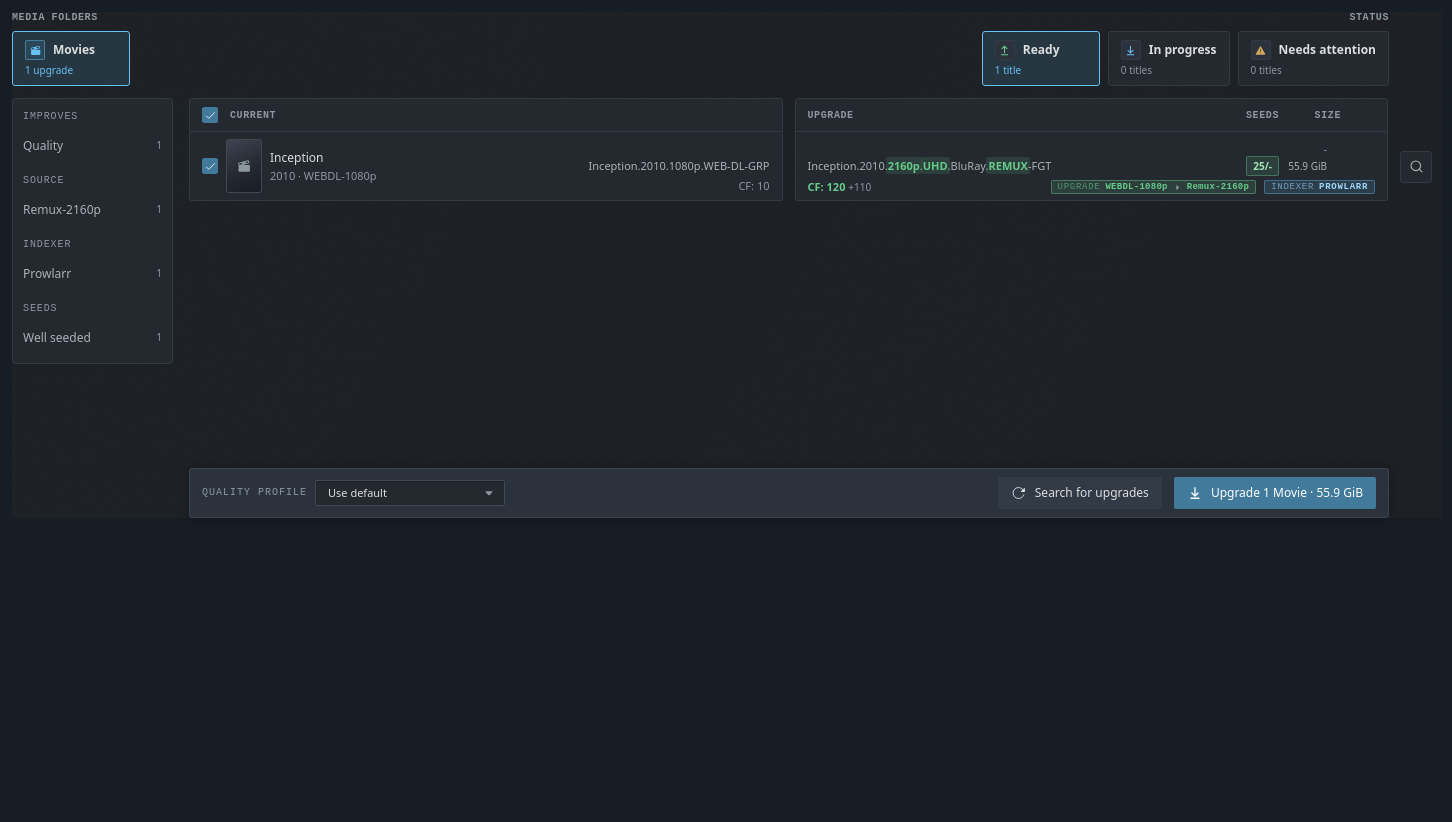
Test: Upgrade Media page › rejects the offered release from a right-click on the upgrade side
Right-click the element with class "upgrade-v2-change" at x=1091, y=166, box [794,132,1388,201]
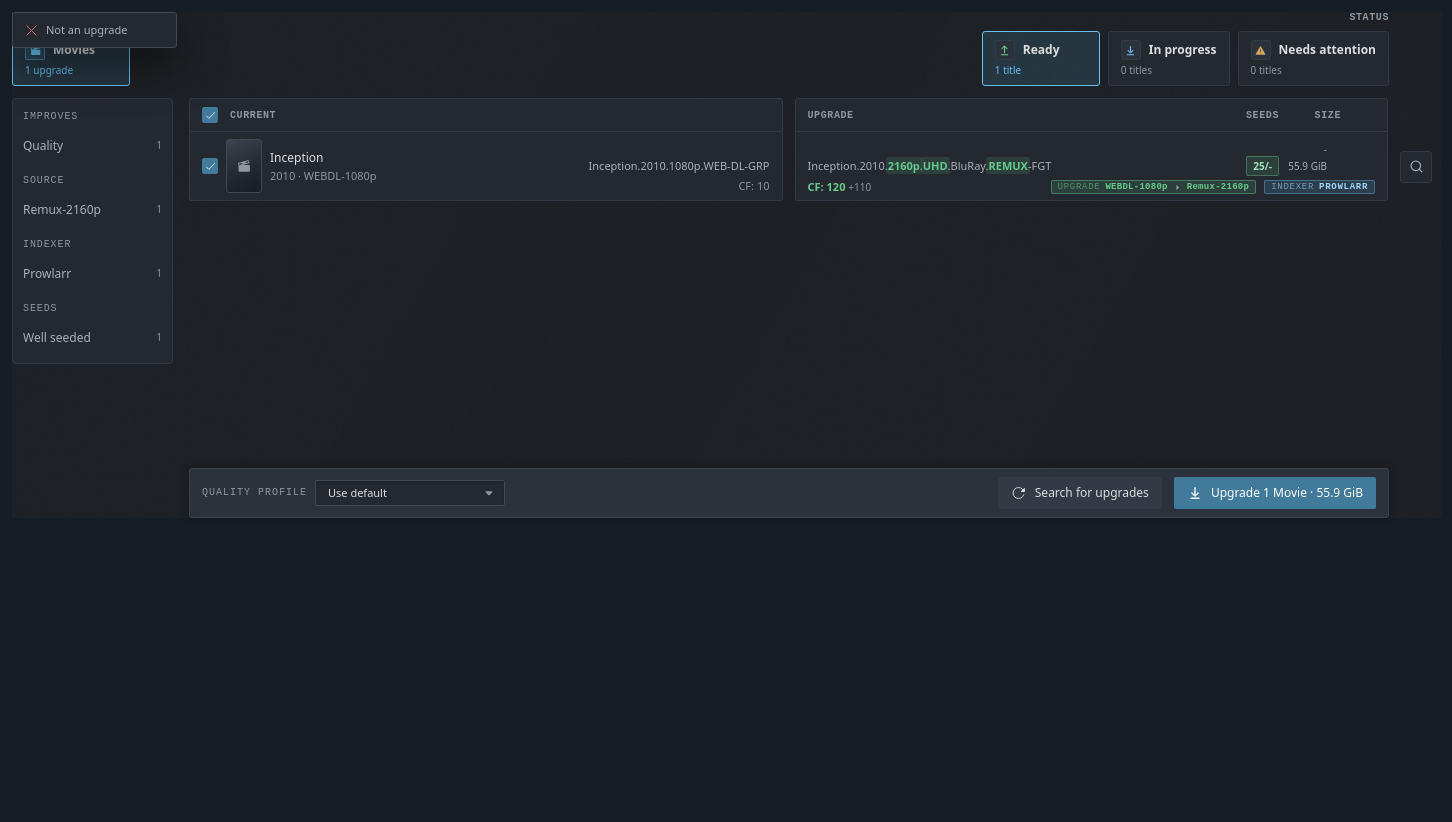
Click the button "Not an upgrade" at x=94, y=30, box [17,17,172,43]
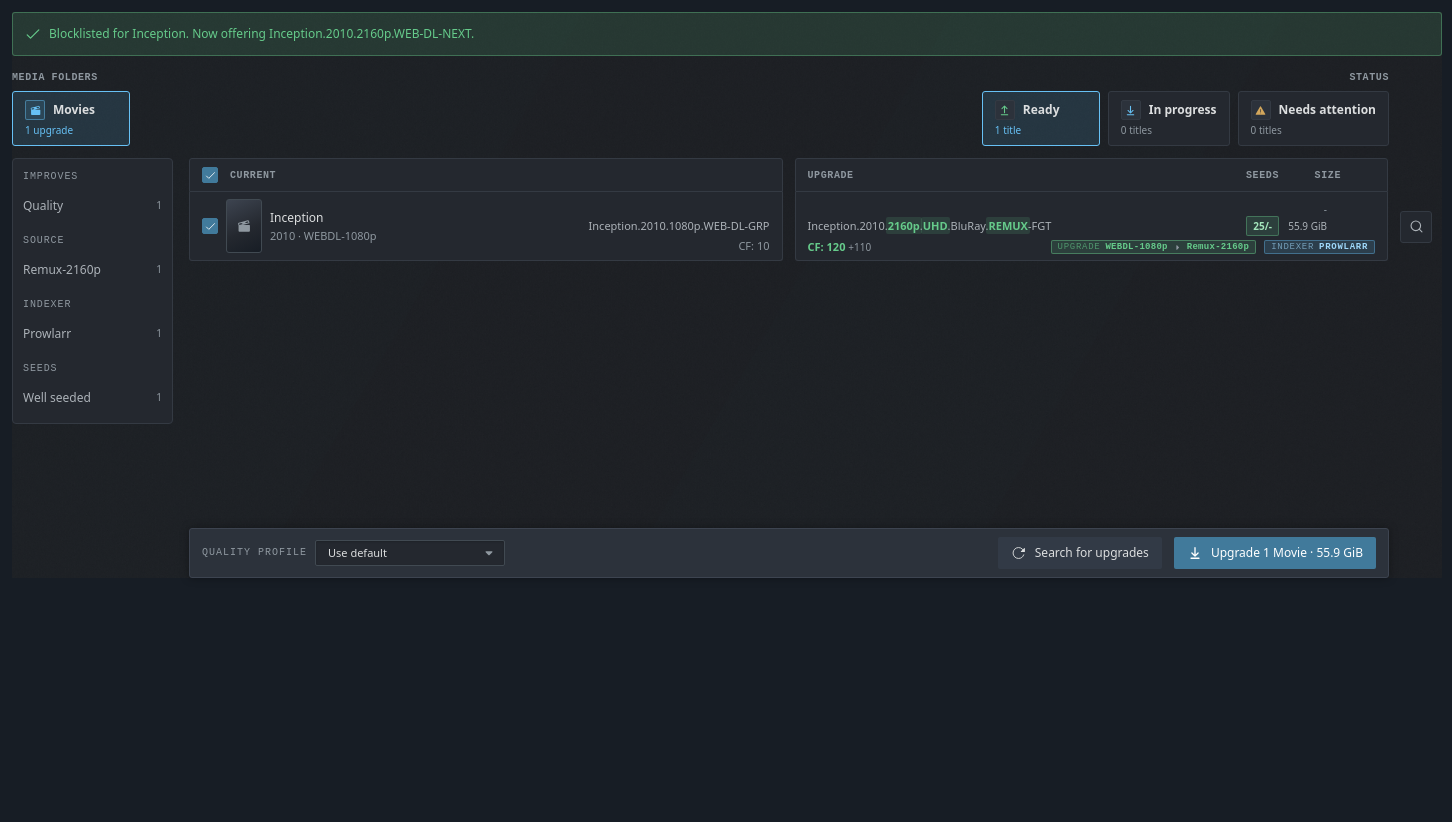
Check: the text "Now offering Inception.2010.2160p.WEB-DL-NEXT" is shown, box [49,25,474,42]
